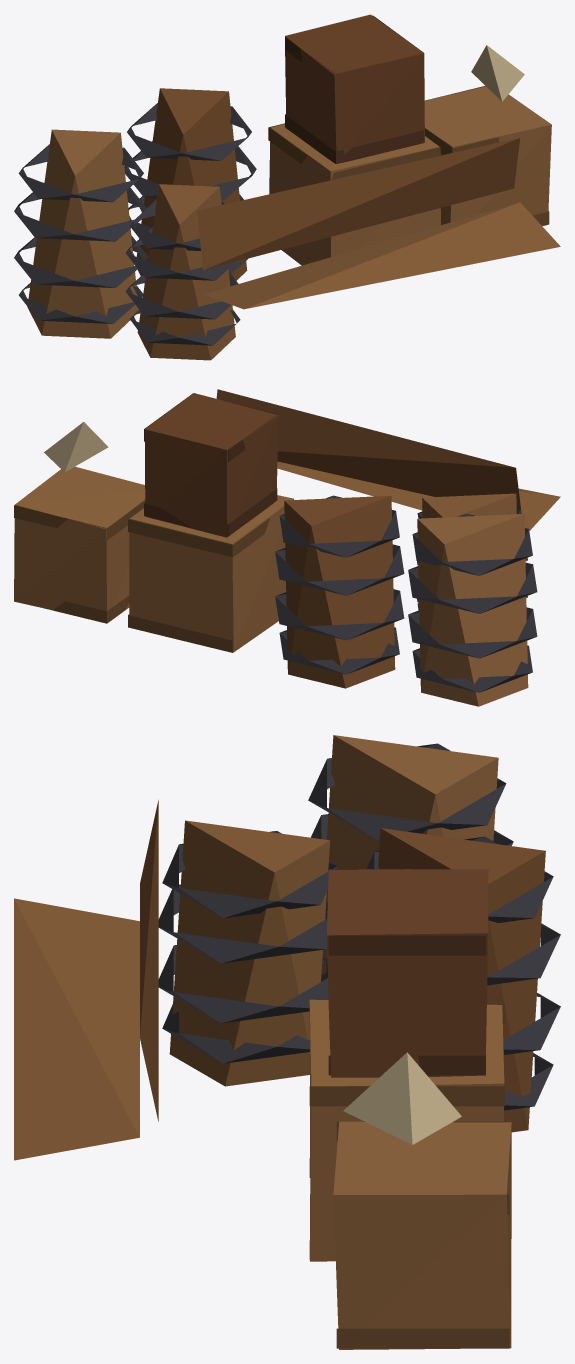
File: town_props_cluster-lod1.glb
The picture shows the model from 3 angles, top to bottom: view 1: azimuth 30°, elevation 25°; view 2: azimuth 150°, elevation 25°; view 3: azimuth 270°, elevation 25°; orthographic projection. The views are drawn at different scales.
Parts seen in each view (by area): view 1: town_props_cluster; view 2: town_props_cluster; view 3: town_props_cluster.
Part boxes in pixels (left/top/right/bottom): town_props_cluster: left=14, top=14, right=560, bottom=360; town_props_cluster: left=14, top=389, right=560, bottom=706; town_props_cluster: left=14, top=735, right=560, bottom=1349.
Bounding box in the file's own units: 2.86 × 1.13 × 1.74.
